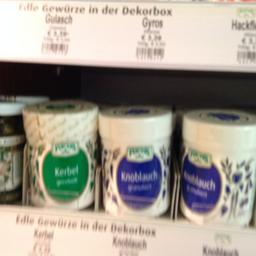spices: (177, 106, 255, 225), (94, 103, 172, 216), (22, 98, 92, 207)
